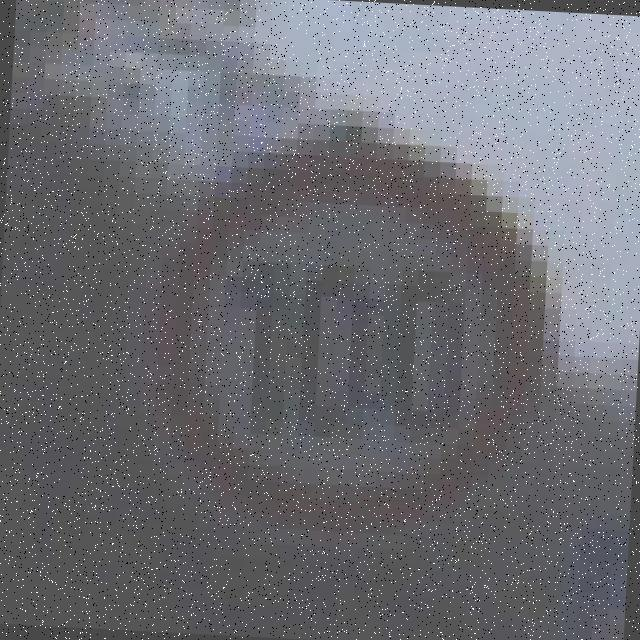Ograniczenie predkosci do 100: (144, 144, 556, 550)
